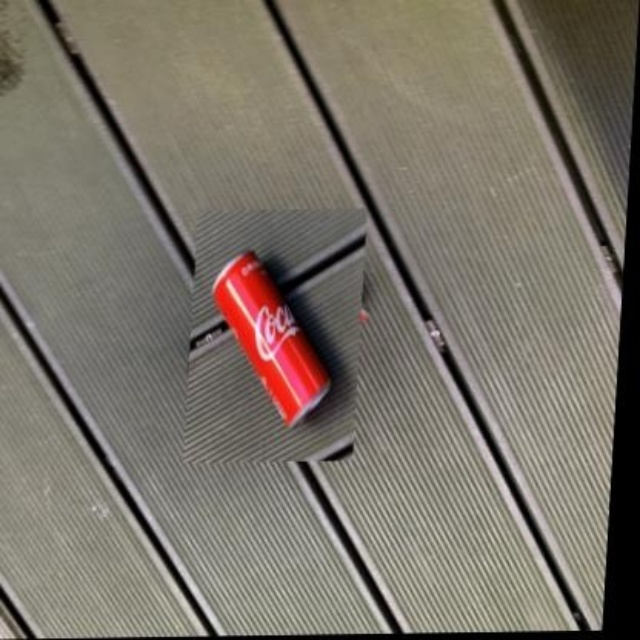trash: (212, 251, 329, 426)
